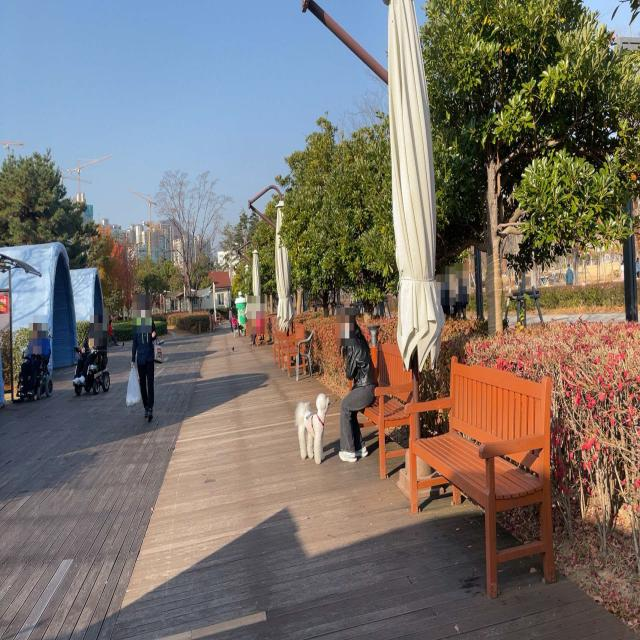Leashed_Dog: (294, 371, 358, 466)
